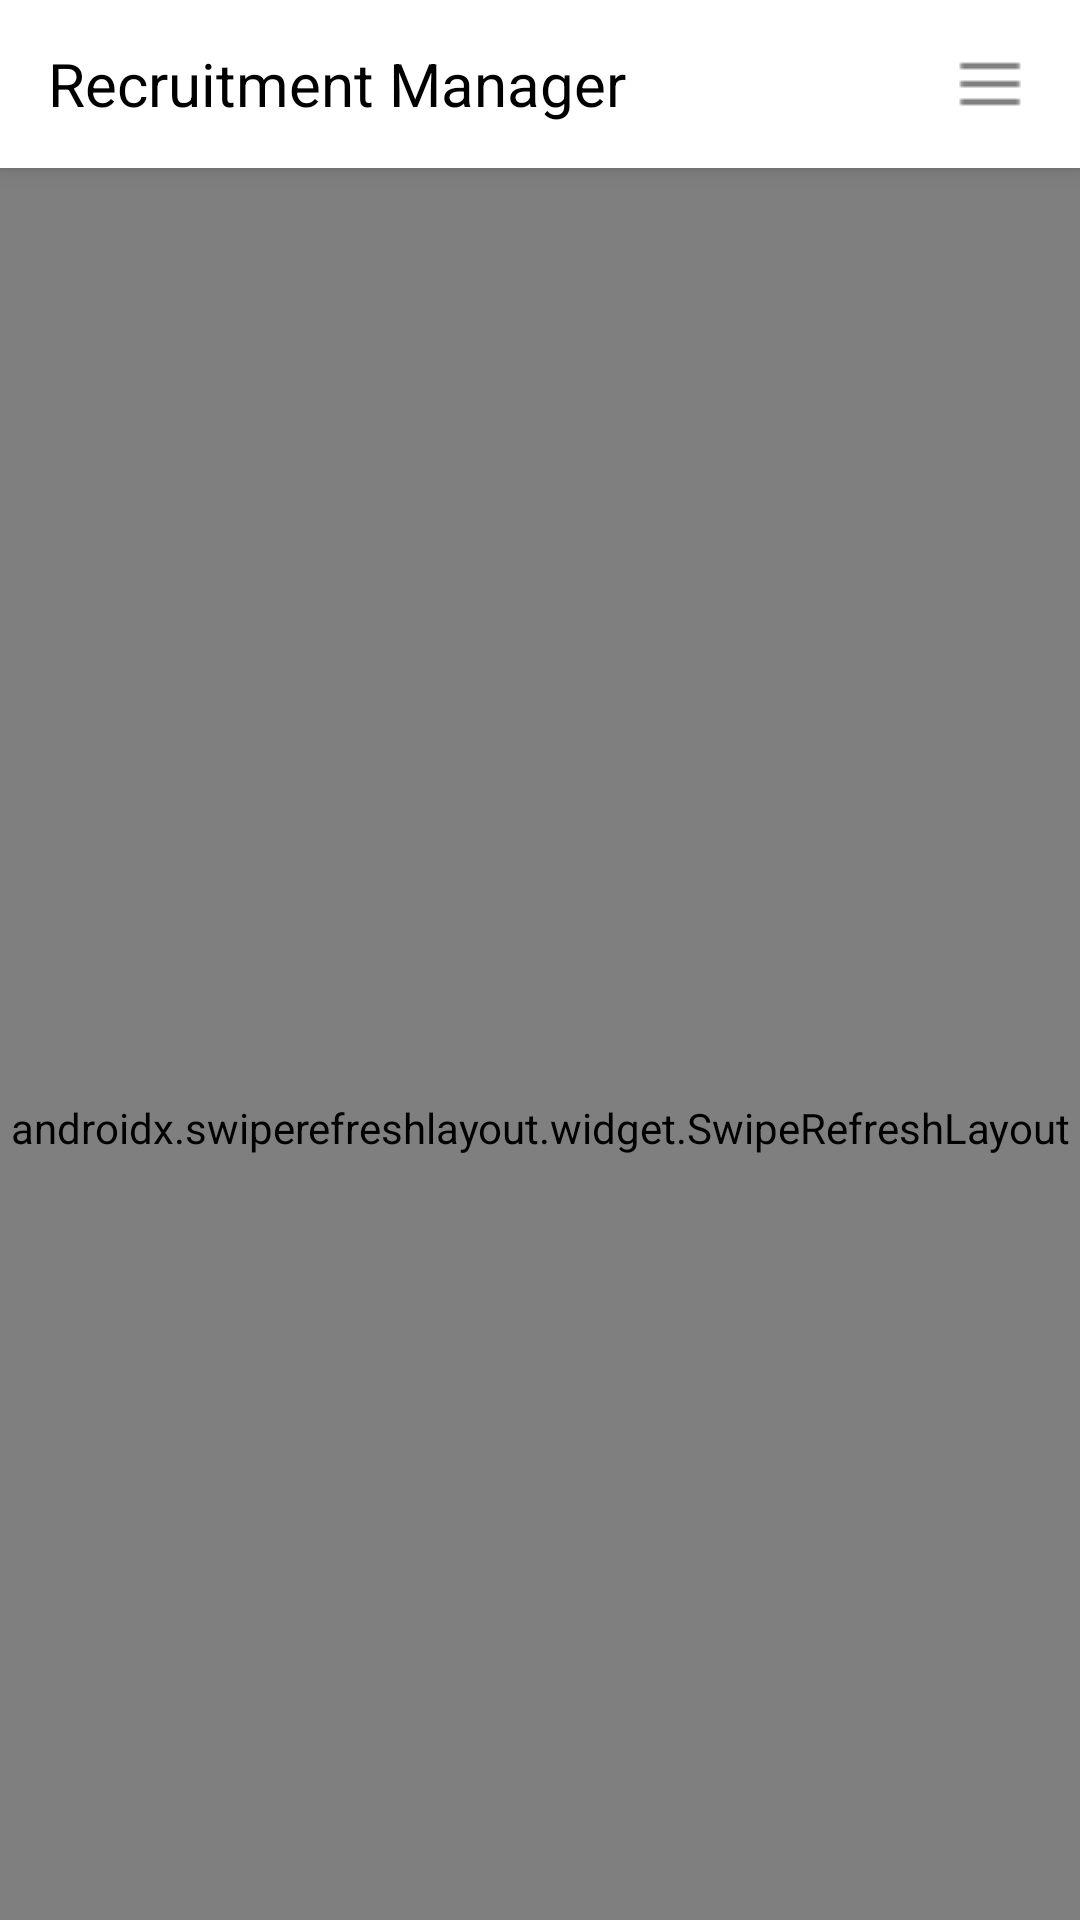

Icon click points for this 1080 x 1920 phone screenshot, format (x=x, y=y):
Menu Button: (x=990, y=84)
